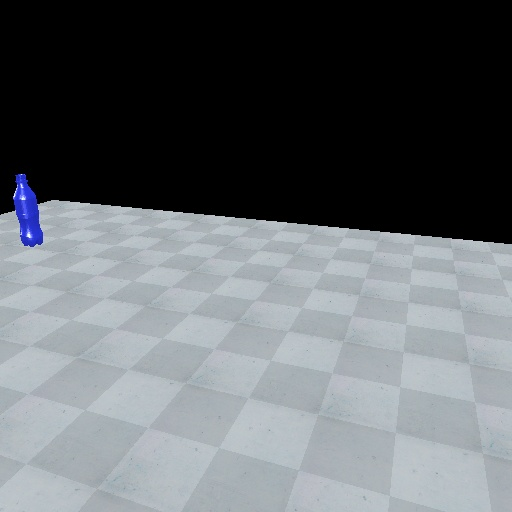bottle: (9, 170, 47, 250)
